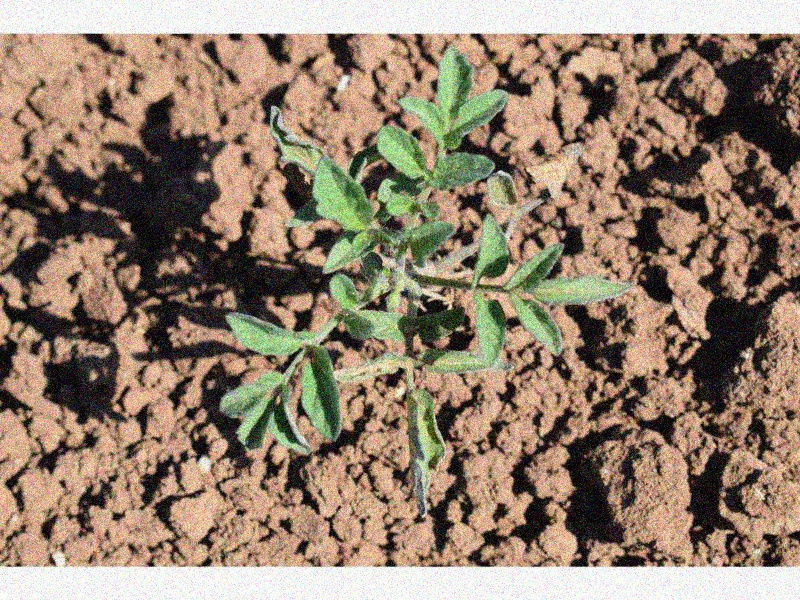tomato: (218, 48, 635, 519)
